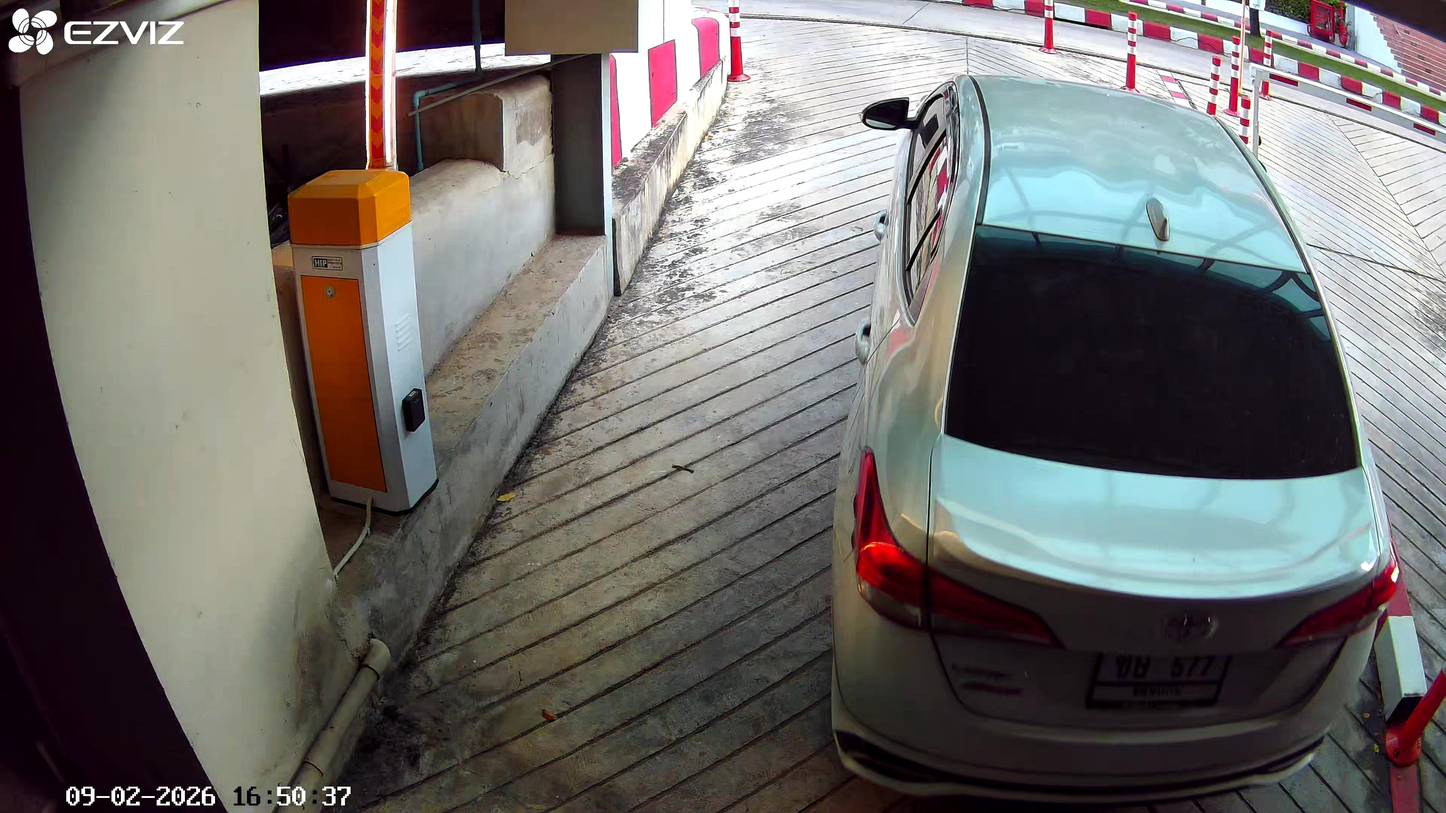car: (826, 73, 1403, 812)
license-plate: (1084, 649, 1235, 714)
